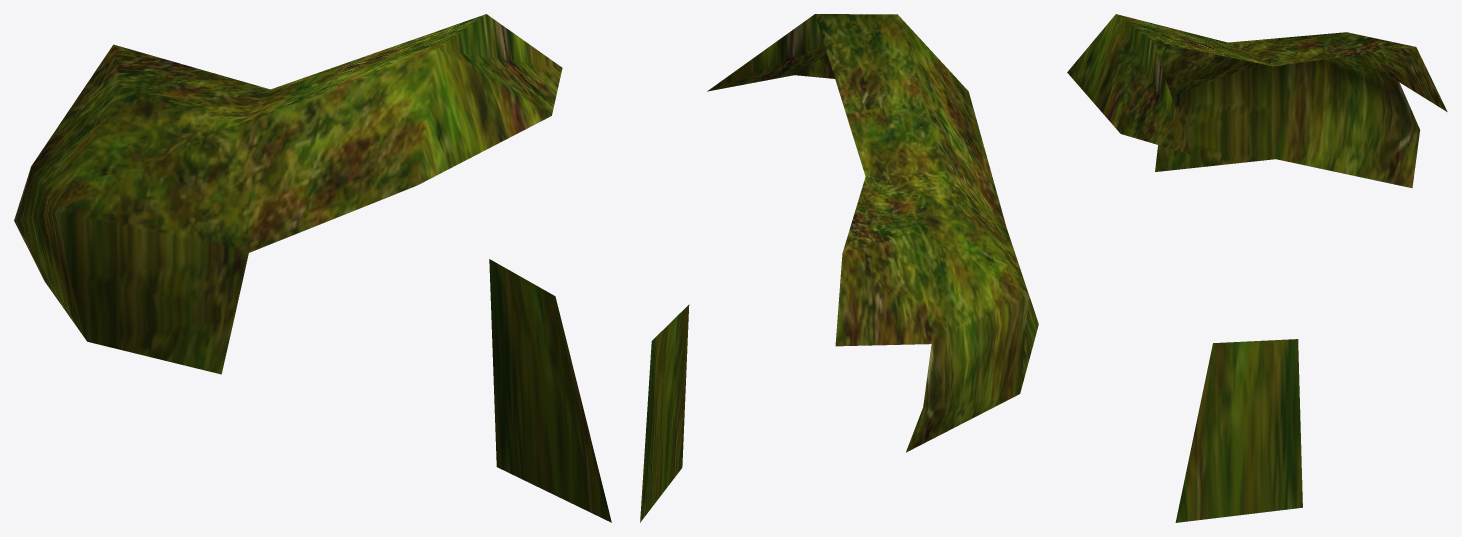
The model's file is TROLLHOLE02_RM_PSURF78.fbx.
The picture shows the model from 3 angles, left to right: view 1: azimuth 30°, elevation 25°; view 2: azimuth 150°, elevation 25°; view 3: azimuth 270°, elevation 25°; orthographic projection. The views are drawn at different scales.
Parts seen in each view (by area): view 1: TROLLHOLE02_RM_PSURF78; view 2: TROLLHOLE02_RM_PSURF78; view 3: TROLLHOLE02_RM_PSURF78.
Boxes of the visible parts, left/top/right/bottom form: TROLLHOLE02_RM_PSURF78: left=14, top=14, right=611, bottom=522; TROLLHOLE02_RM_PSURF78: left=640, top=14, right=1038, bottom=522; TROLLHOLE02_RM_PSURF78: left=1067, top=14, right=1447, bottom=522.
Bounding box in the file's own units: 44521 × 49048 × 39502.
1 material, 1 textured.
